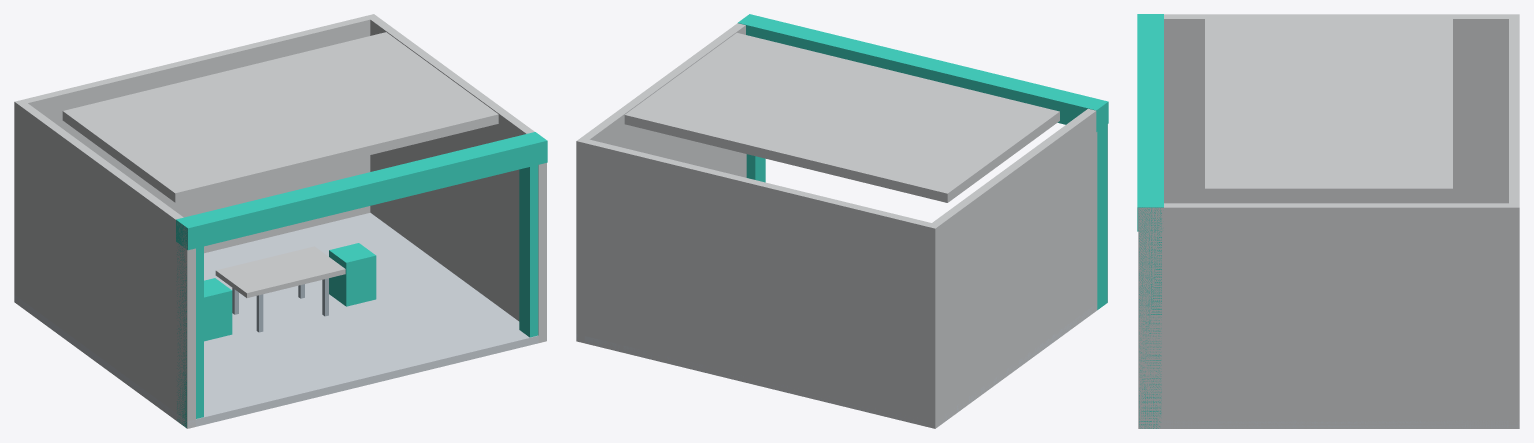
3 views of the same model, side by side, from view 1: azimuth 30°, elevation 25°; view 2: azimuth 150°, elevation 25°; view 3: azimuth 270°, elevation 25° (orthographic). The views are drawn at different scales.
Visible parts, largest first — view 1: Exhibition Booth Concept; view 2: Exhibition Booth Concept; view 3: Exhibition Booth Concept.
Part boxes in pixels (x1=…): Exhibition Booth Concept: x1=14, y1=14, x2=547, y2=428; Exhibition Booth Concept: x1=576, y1=14, x2=1108, y2=428; Exhibition Booth Concept: x1=1137, y1=14, x2=1519, y2=428.
Bounding box in the file's own units: 6 × 3.34 × 5.02.
